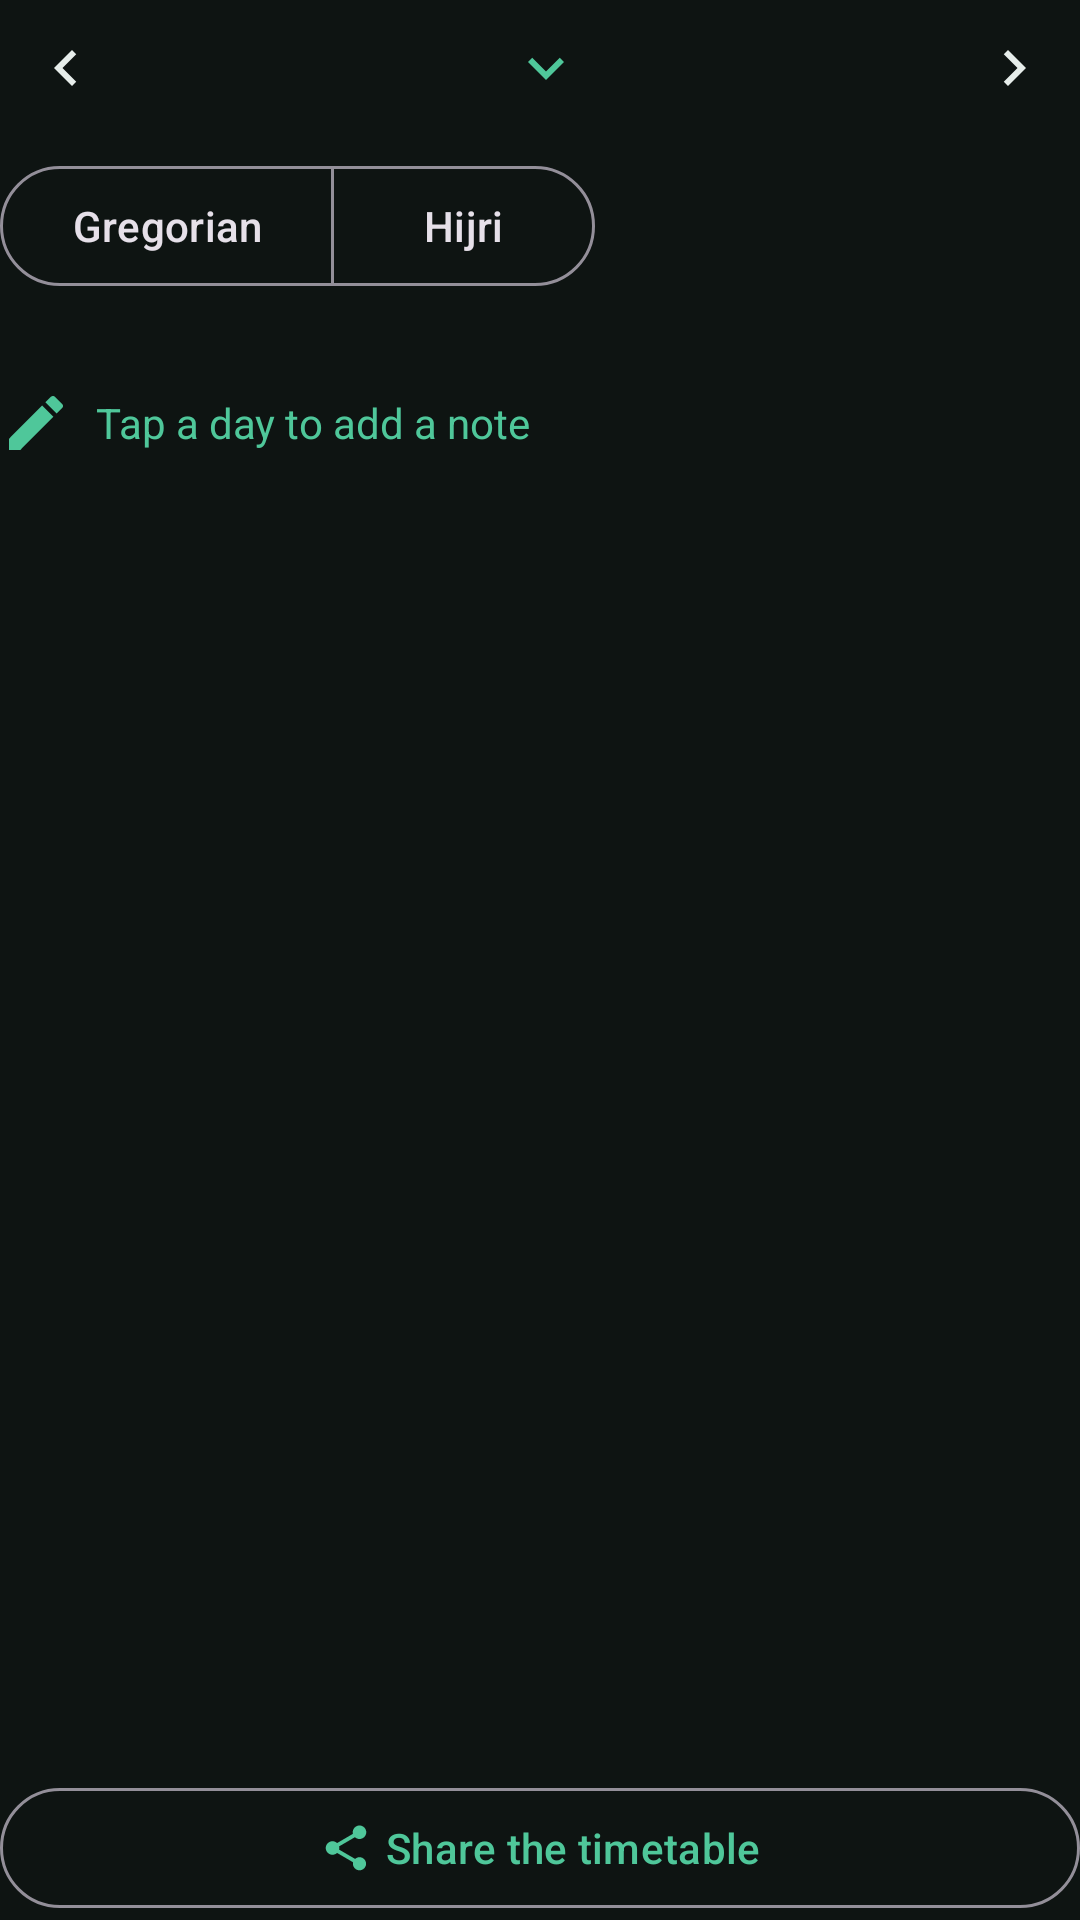

Locate icon controls on the screen. Image size 1080 x 1920, boxes as Rect(x1, y1, x2, y2).
Next month: Rect(1004, 50, 1026, 86)
